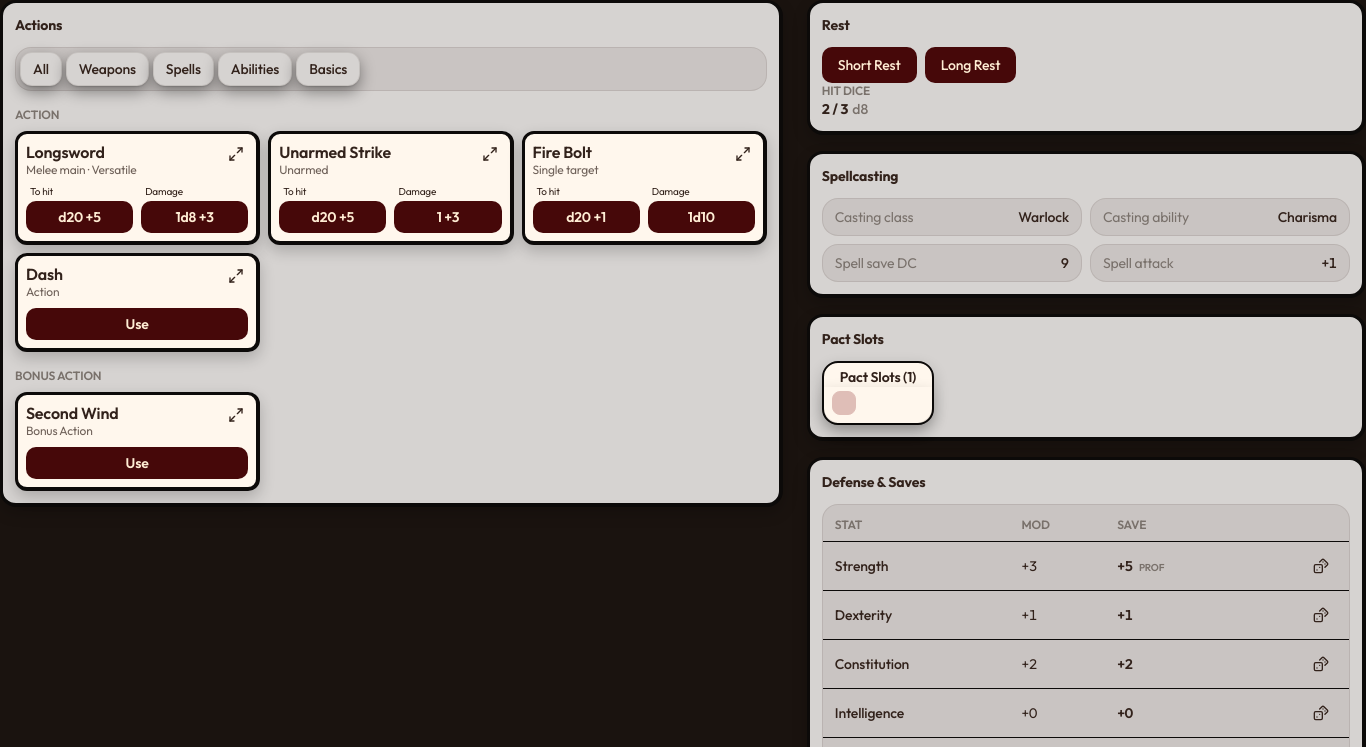
Test case: CombatTab › opens a short rest modal that restores class pools without spending hit dice
Check: the button "Spend a hit die" is not shown
Step 1. Click the button "Short Rest" → (869, 65), box [822,47,917,83]
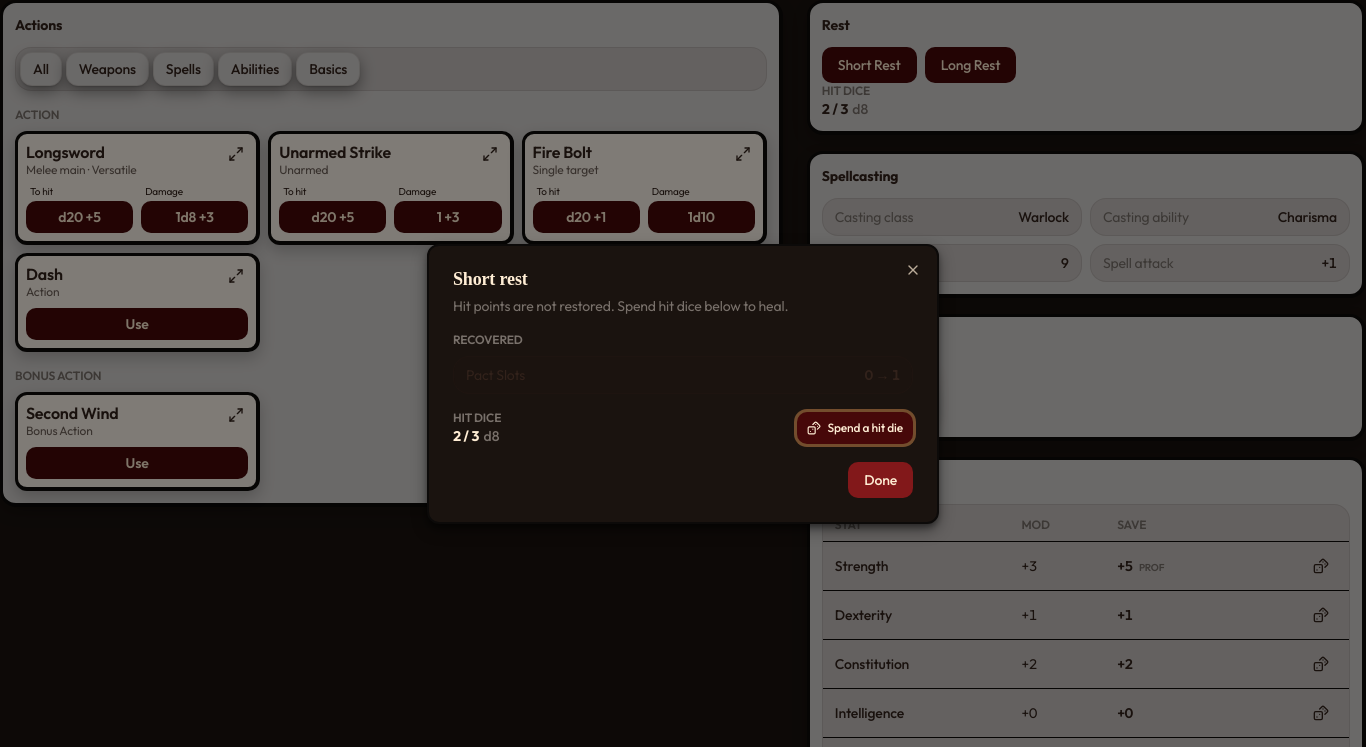
Check: the heading "Short rest" is shown, box [453,269,528,289]
Step 2. Click the button "Spend a hit die" → (855, 428), box [798,412,913,444]
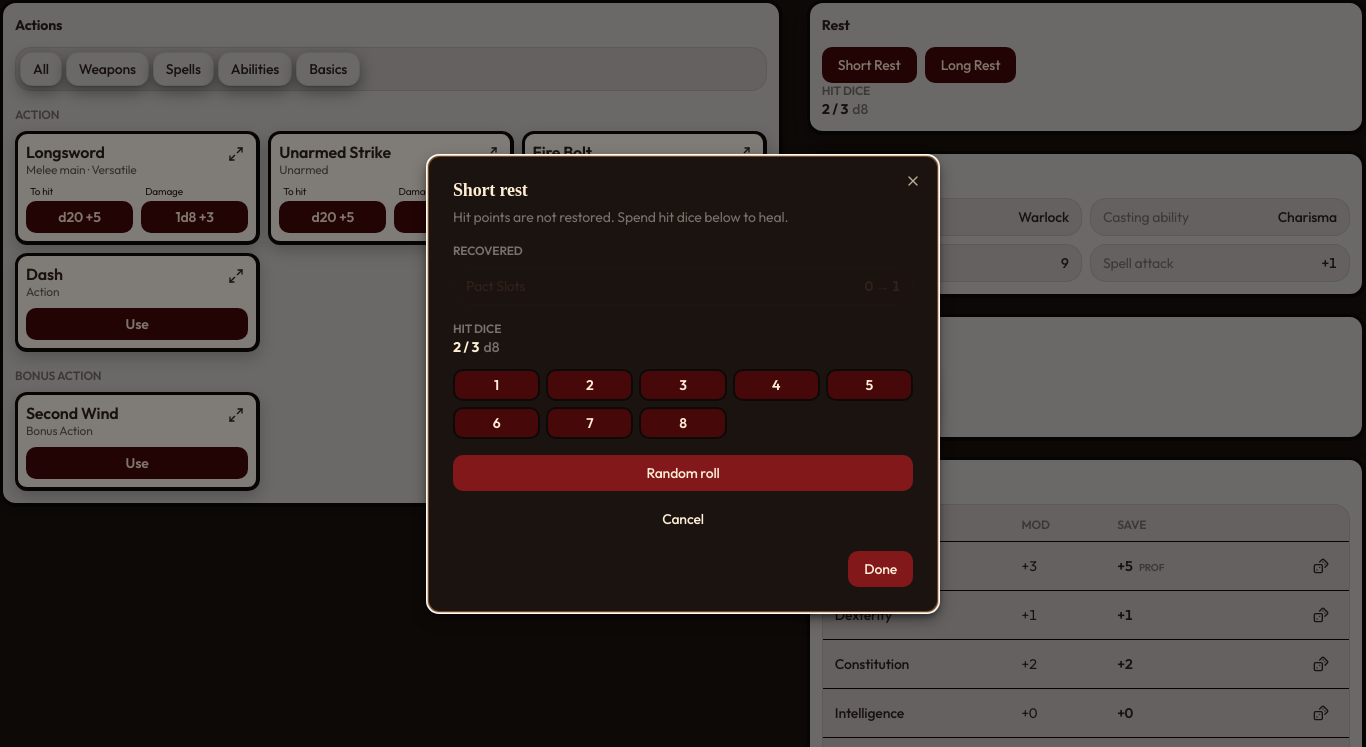
Step 3. Click the button "8" → (683, 423), box [639,407,727,439]
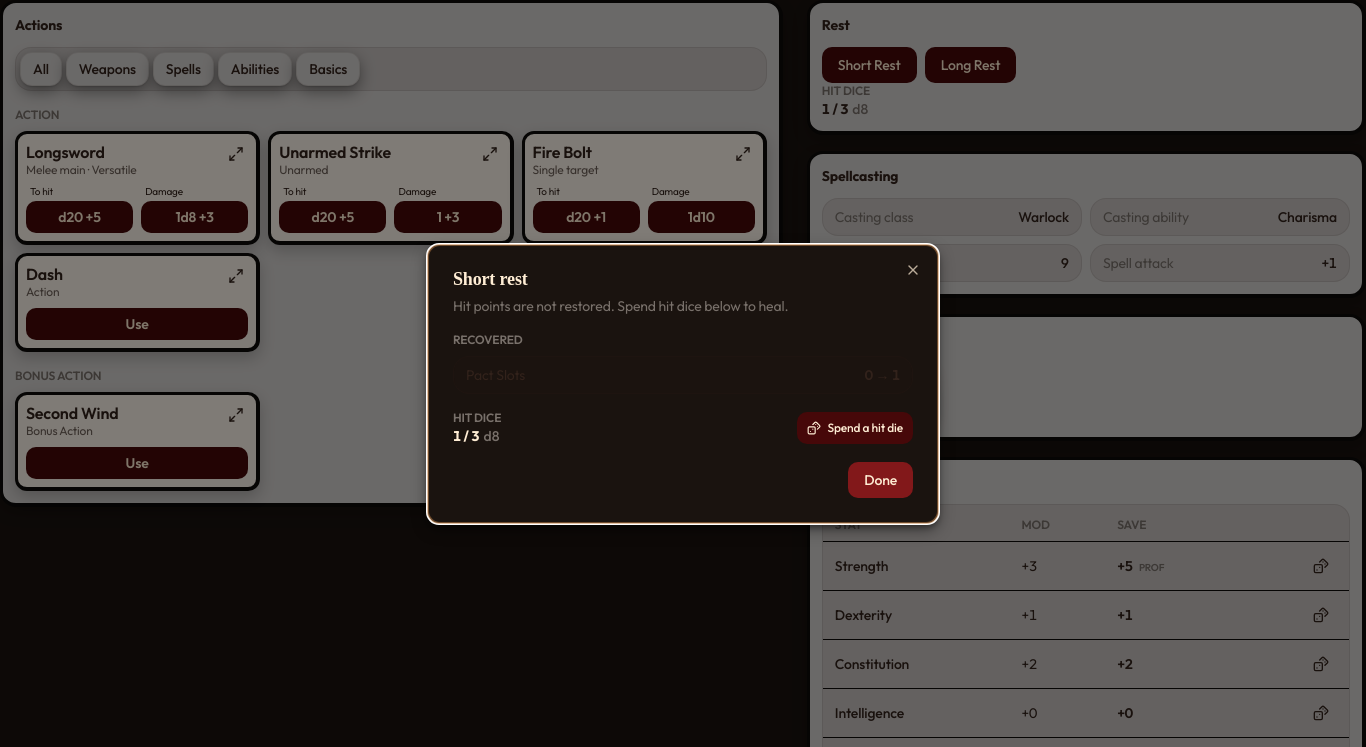
Check: the button "Spend a hit die" is shown, box [798,412,913,444]
Step 4. Click the button "Done" → (881, 480), box [848,462,913,498]
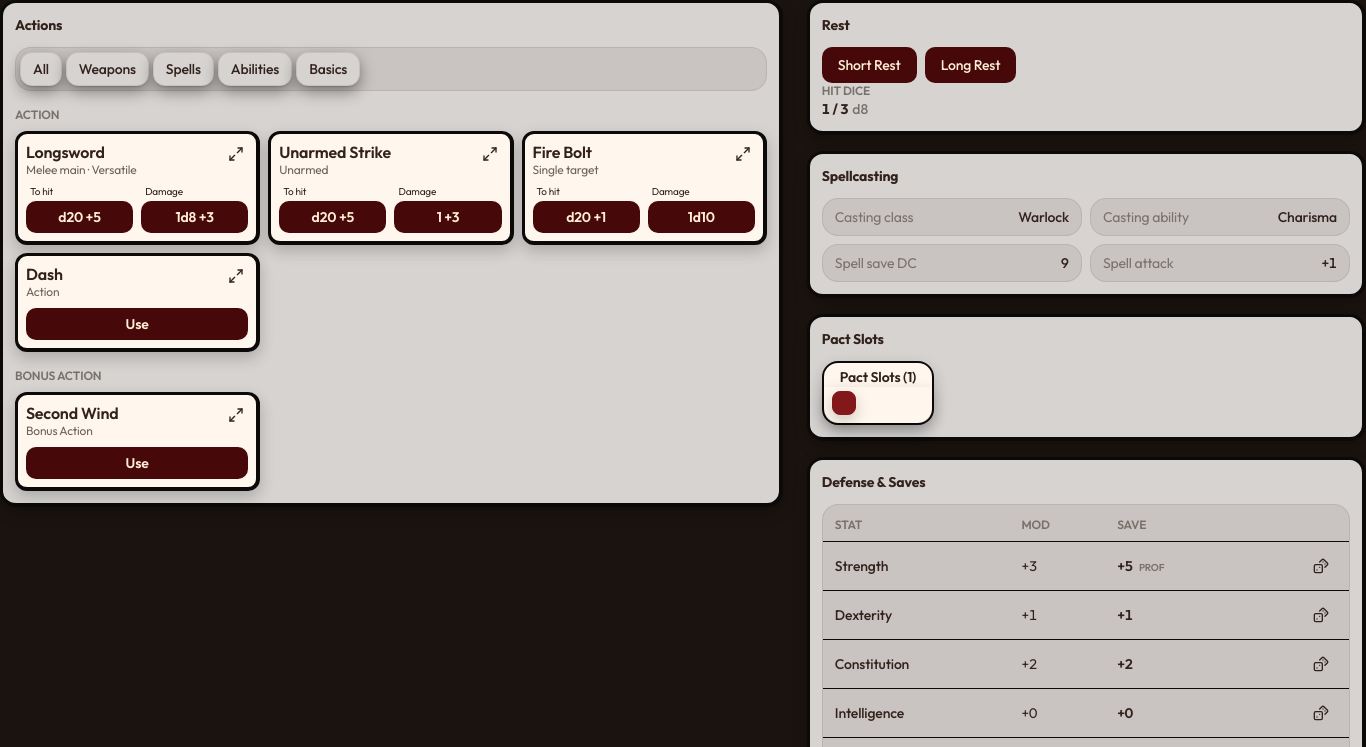
Check: the dialog is gone
